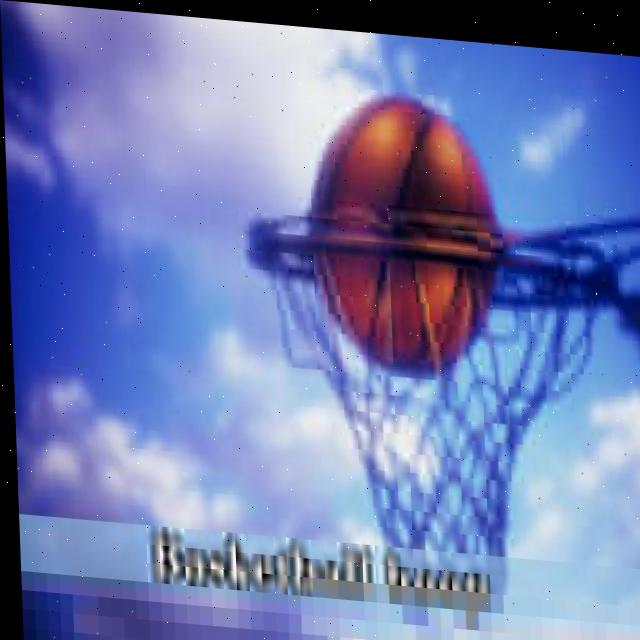hoop: (240, 71, 640, 640)
